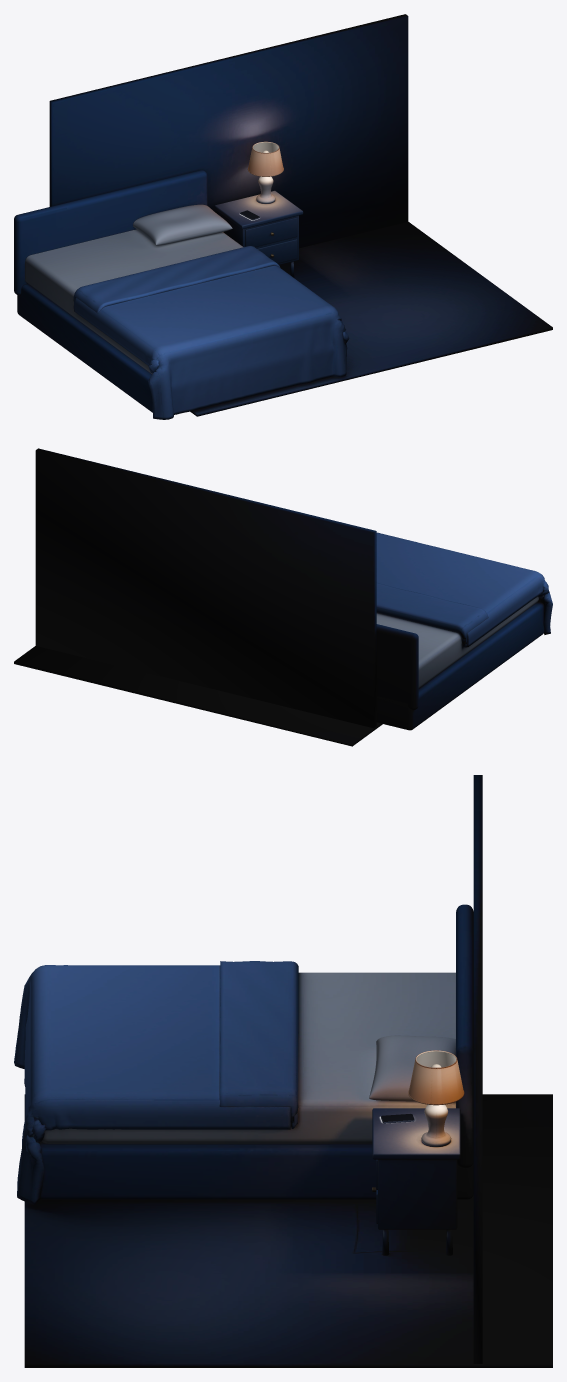
The model's file is bed.glb.
3 views of the same model, one above another, from view 1: azimuth 30°, elevation 25°; view 2: azimuth 150°, elevation 25°; view 3: azimuth 270°, elevation 25° (orthographic). The views are drawn at different scales.
Parts seen in each view (by area): view 1: Baked_Room, Baked_Bed, Baked_Detail; view 2: Baked_Room, Baked_Bed; view 3: Baked_Room, Baked_Bed, Baked_Detail.
Part boxes in pixels (left/top/right/bottom): Baked_Room: left=14, top=14, right=552, bottom=416; Baked_Bed: left=25, top=229, right=349, bottom=419; Baked_Detail: left=133, top=141, right=303, bottom=277; Baked_Room: left=14, top=448, right=544, bottom=746; Baked_Bed: left=376, top=532, right=552, bottom=688; Baked_Room: left=24, top=775, right=552, bottom=1367; Baked_Bed: left=14, top=961, right=455, bottom=1205; Baked_Detail: left=369, top=1035, right=464, bottom=1255.
Size of the model in its own units: 3.26 by 1.62 by 2.45.
6 materials, 4 textured.
